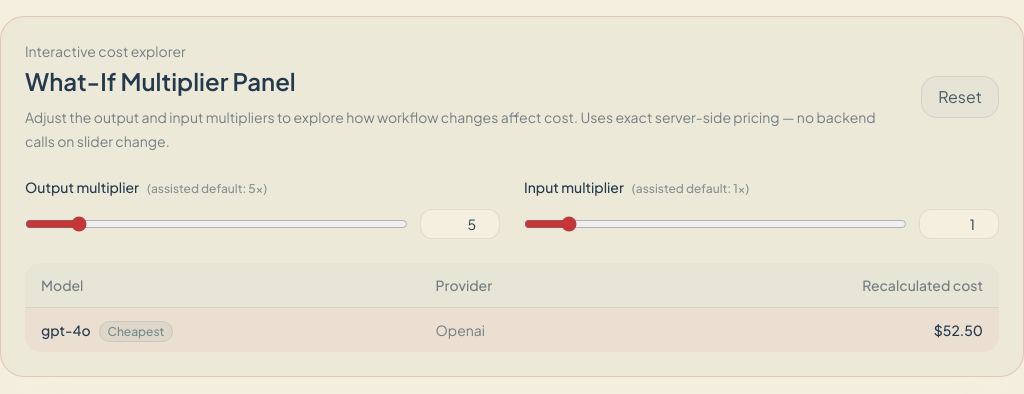
Scenario: WhatIfPanel — live recalculation on slider/input change › updates the displayed cost when the input multiplier slider changes
The image size is (1024, 394).
Set the slider named "Input multiplier slider" to "0" at (532, 224), box [524,216,907,232]
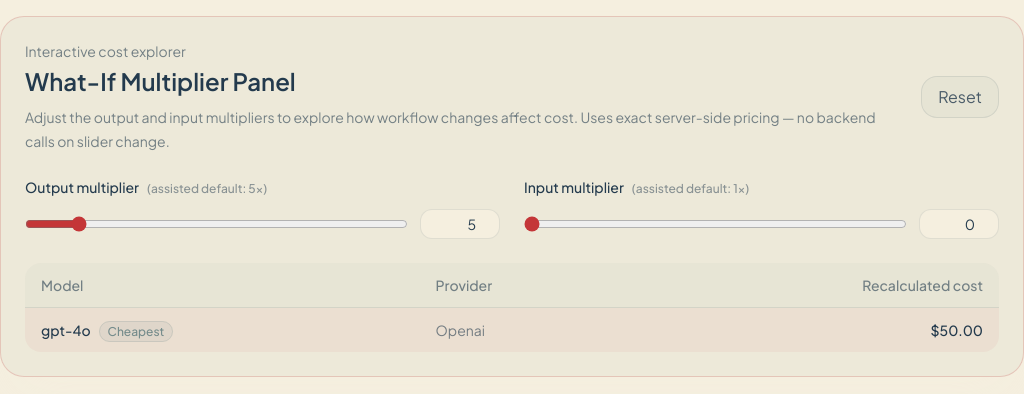
Check: the text "$50.00" is shown, box [632,308,999,352]
